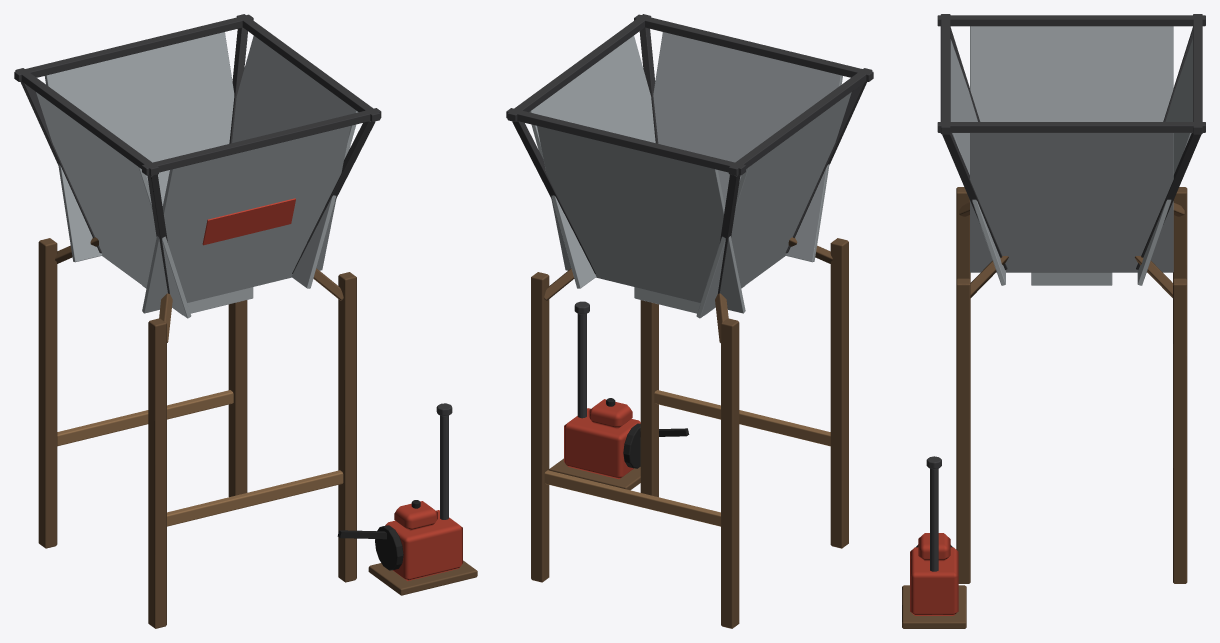
Rendered from HopperExt3.glb.
3 views of the same model, side by side, from view 1: azimuth 30°, elevation 25°; view 2: azimuth 150°, elevation 25°; view 3: azimuth 270°, elevation 25° (orthographic).
Parts seen in each view (by area): view 1: HopperExt3.001; view 2: HopperExt3.001; view 3: HopperExt3.001.
Part boxes in pixels (left/top/right/bottom): HopperExt3.001: left=14, top=14, right=477, bottom=628; HopperExt3.001: left=506, top=14, right=873, bottom=628; HopperExt3.001: left=902, top=14, right=1205, bottom=628.
Bounding box in the file's own units: 2.21 × 3.18 × 1.88.
